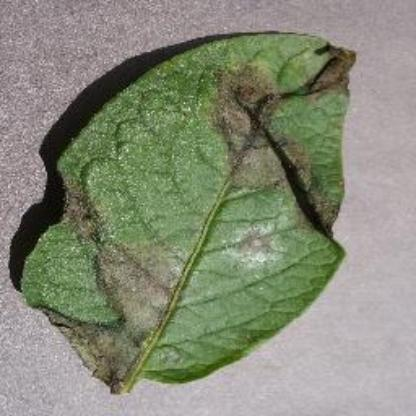Late-Blight: (16, 25, 354, 399)
